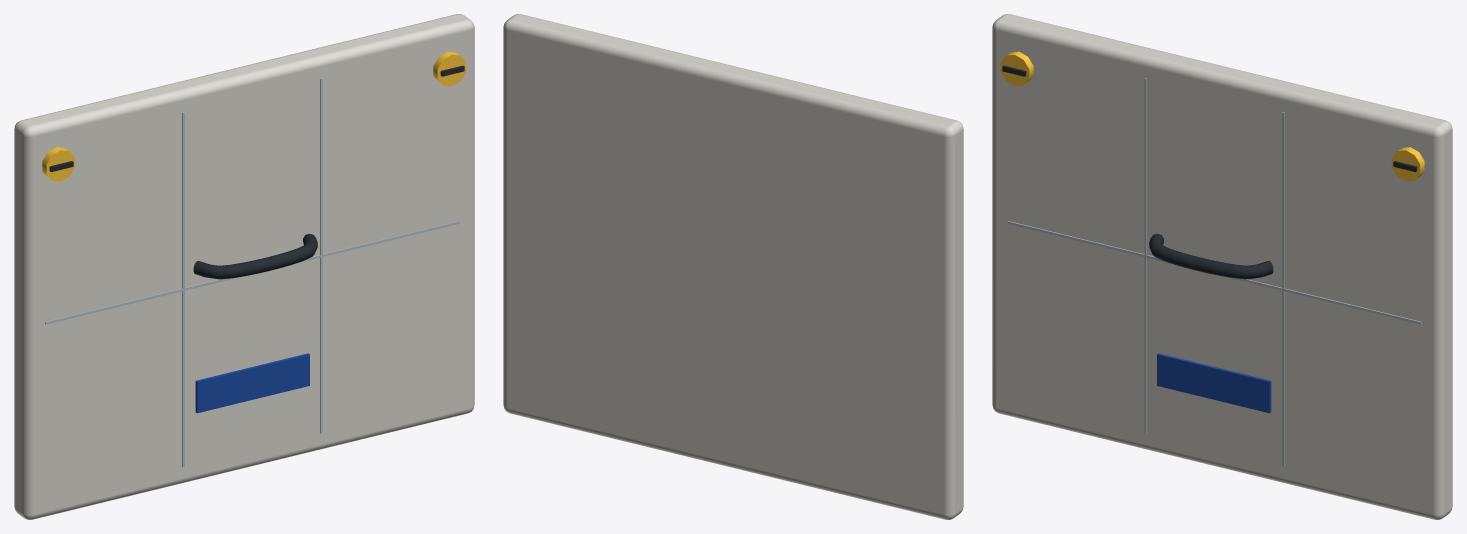
The model's file is shield-panel.glb.
3 views of the same model, side by side, from view 1: azimuth 30°, elevation 25°; view 2: azimuth 150°, elevation 25°; view 3: azimuth 330°, elevation 25° (orthographic).
Parts seen in each view (by area): view 1: shield-panel-polyethylene, shield-panel-nasa-blue, shield-panel-panel-grey, grip-dark-polymer, fastener_knob (×2); view 2: shield-panel-polyethylene; view 3: shield-panel-polyethylene, shield-panel-nasa-blue, shield-panel-panel-grey, grip-dark-polymer, fastener_knob (×2).
Part boxes in pixels (box(x1,y1,x2,y2)): shield-panel-polyethylene: box(14, 14, 474, 519); shield-panel-nasa-blue: box(195, 353, 309, 413); shield-panel-panel-grey: box(45, 78, 459, 466); grip-dark-polymer: box(193, 233, 317, 279); fastener_knob (×2): box(42, 51, 466, 181); shield-panel-polyethylene: box(503, 14, 963, 519); shield-panel-polyethylene: box(992, 14, 1452, 519); shield-panel-nasa-blue: box(1157, 353, 1271, 413); shield-panel-panel-grey: box(1007, 78, 1421, 466); grip-dark-polymer: box(1149, 233, 1273, 279); fastener_knob (×2): box(1000, 51, 1424, 181).
Bounding box in the file's own units: 1.2 × 1 × 0.1572.
